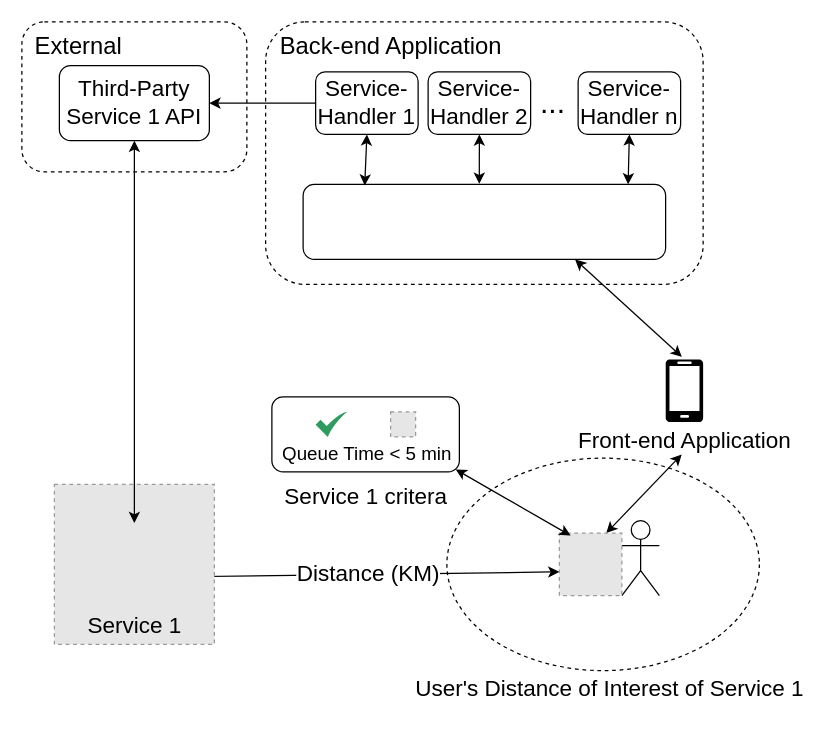
The diagram is 838 pixels wide and 730 high, and some of its shapes have lost their labels. Grey dashed boxes stand in for pictures. The centre of each missing label's shape, as x and y in pixels:
RESTful API: pixel 484 221
User: pixel 640 557
